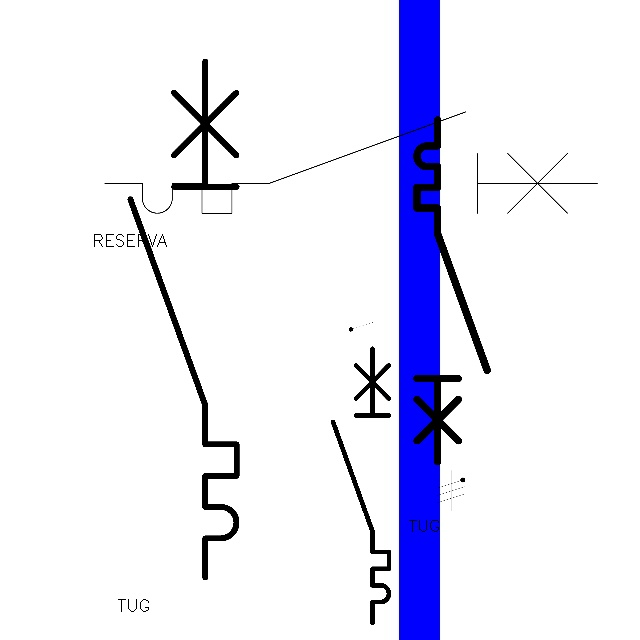interruptor_termomagnetico: (117, 48, 250, 591), (92, 99, 609, 226), (408, 111, 496, 470), (326, 341, 396, 630)
